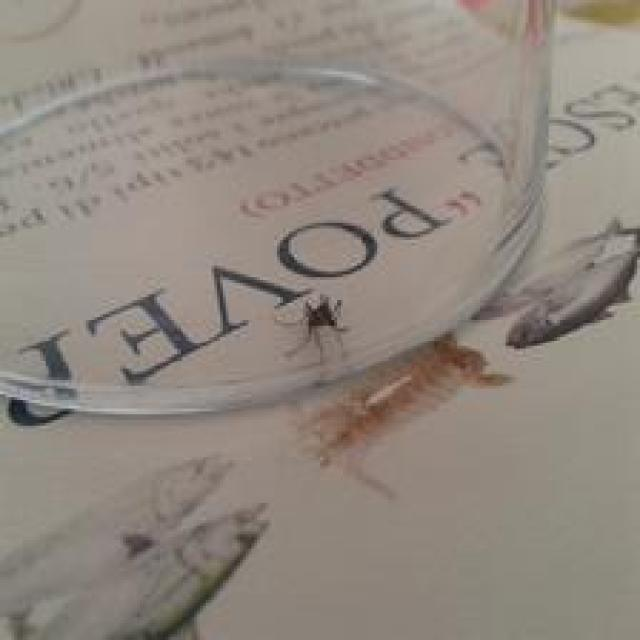Aedes albopictus: (0, 451, 271, 639)
